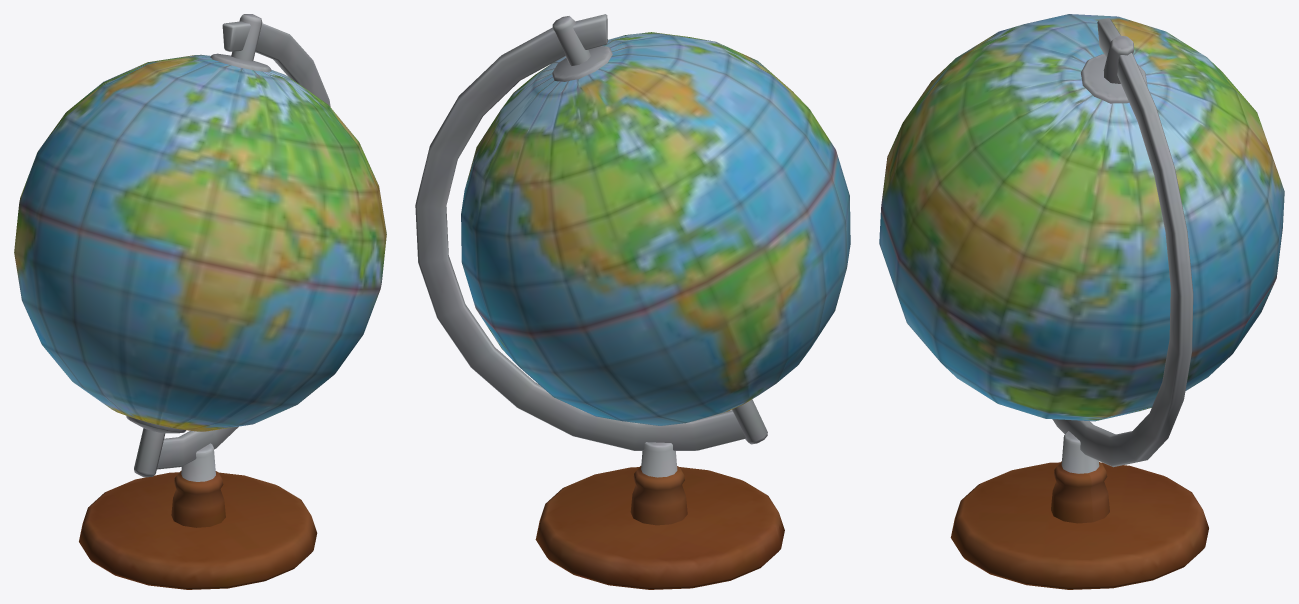
The picture shows the model from 3 angles, left to right: view 1: azimuth 30°, elevation 25°; view 2: azimuth 150°, elevation 25°; view 3: azimuth 270°, elevation 25°; orthographic projection. The views are drawn at different scales.
Size of the model in its own units: 6.7 by 9.24 by 6.29.
1 material, 1 textured.
